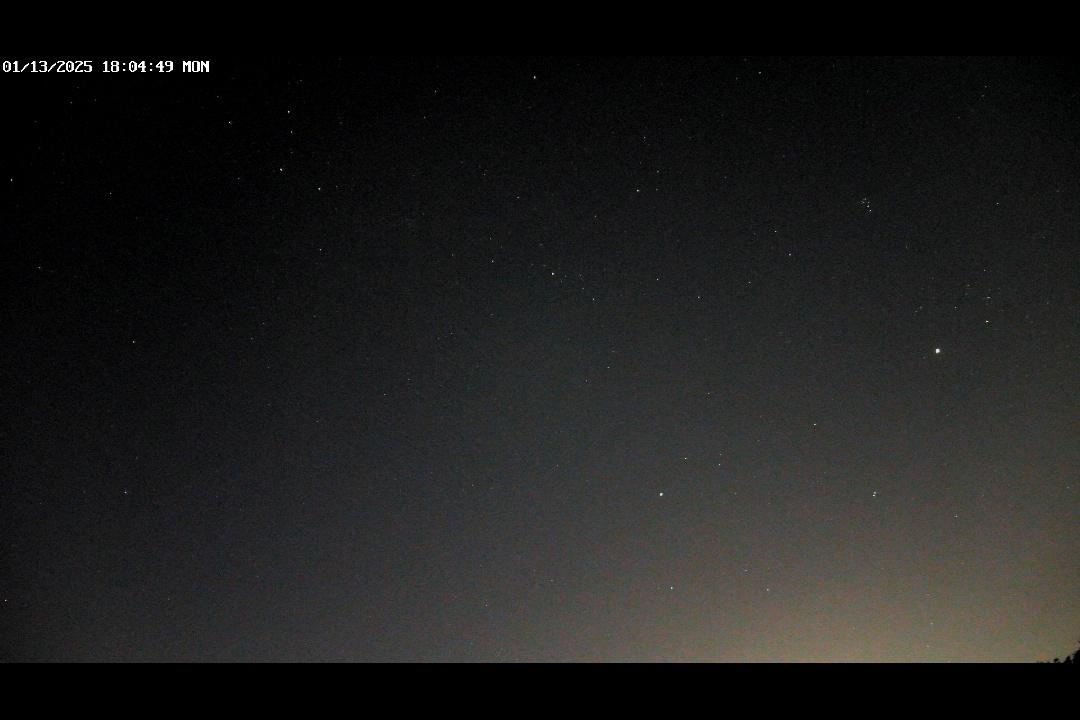Plane: (920, 345, 949, 370)
